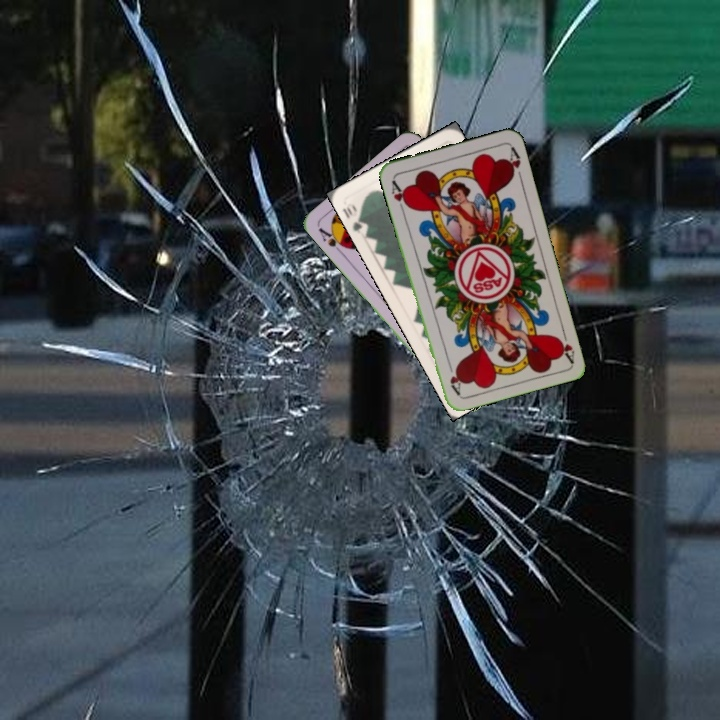G10: (339, 199, 371, 236)
HA: (387, 176, 412, 215), (553, 324, 577, 364)
SA: (314, 223, 350, 257)
